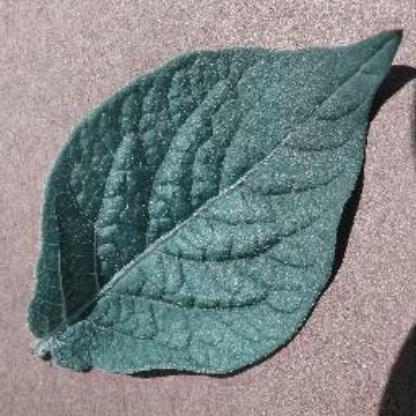Healthy-plant: (22, 22, 414, 378)
